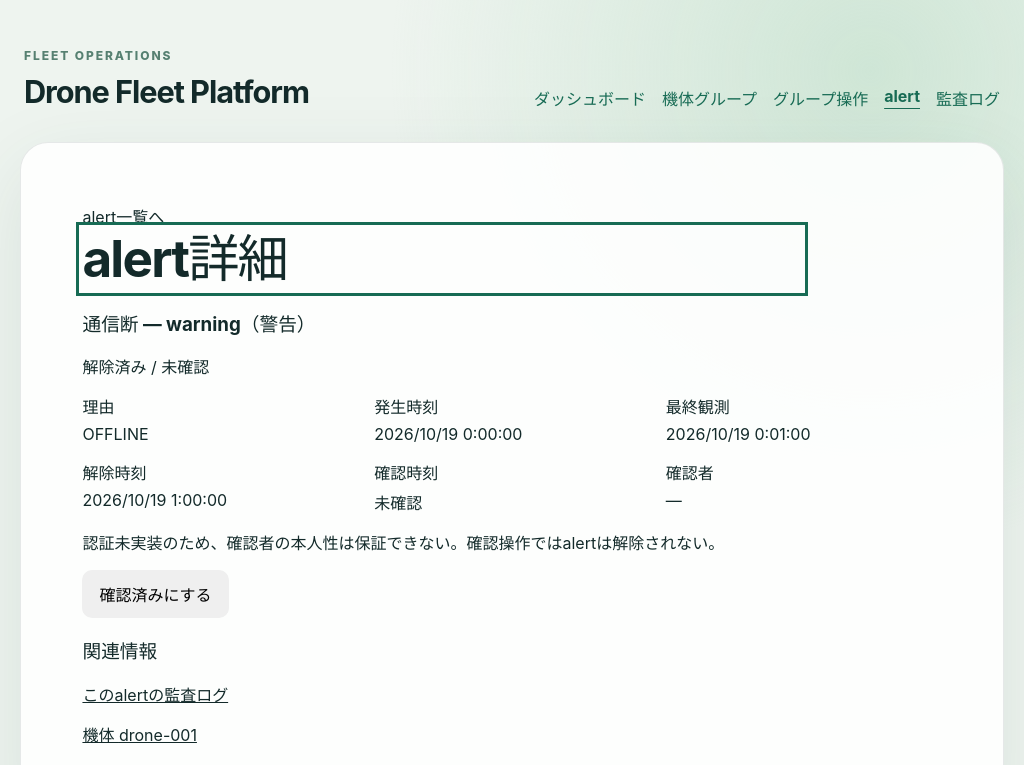
Test: retains the acknowledgement action on save failure
Click the button "確認済みにする".
click(156, 594)  # box [82,570,229,618]
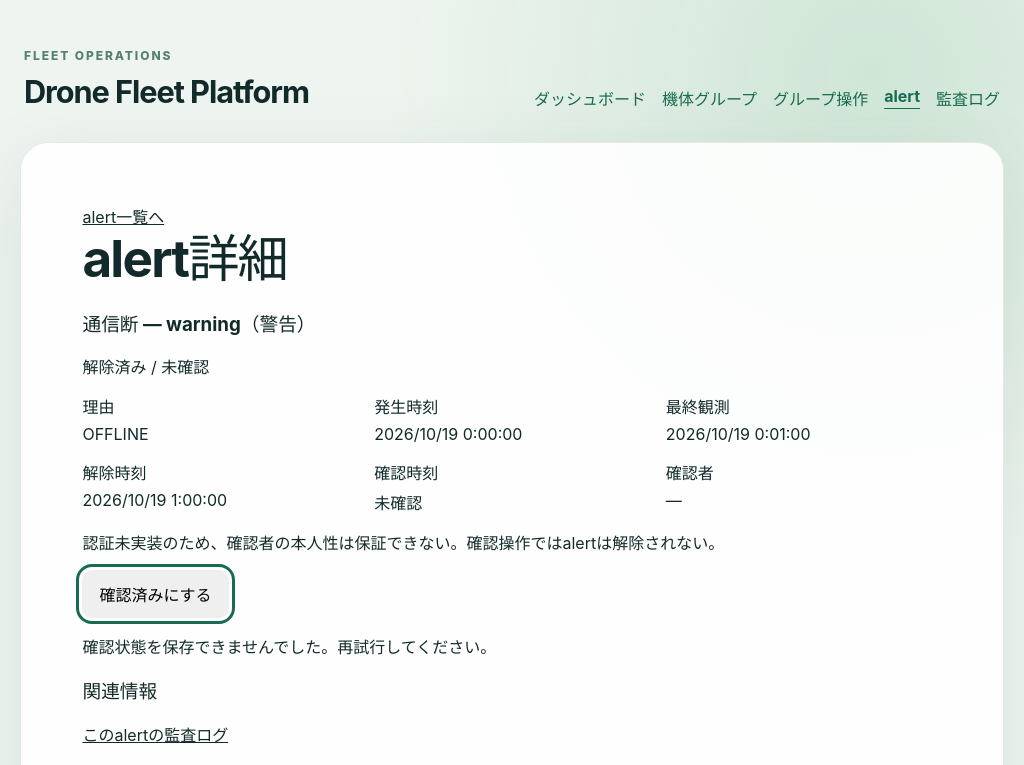
Expected: the text "解除済み" is shown, [82,357,146,377]
Now the message shows "保存できません", box [82,636,496,656]
